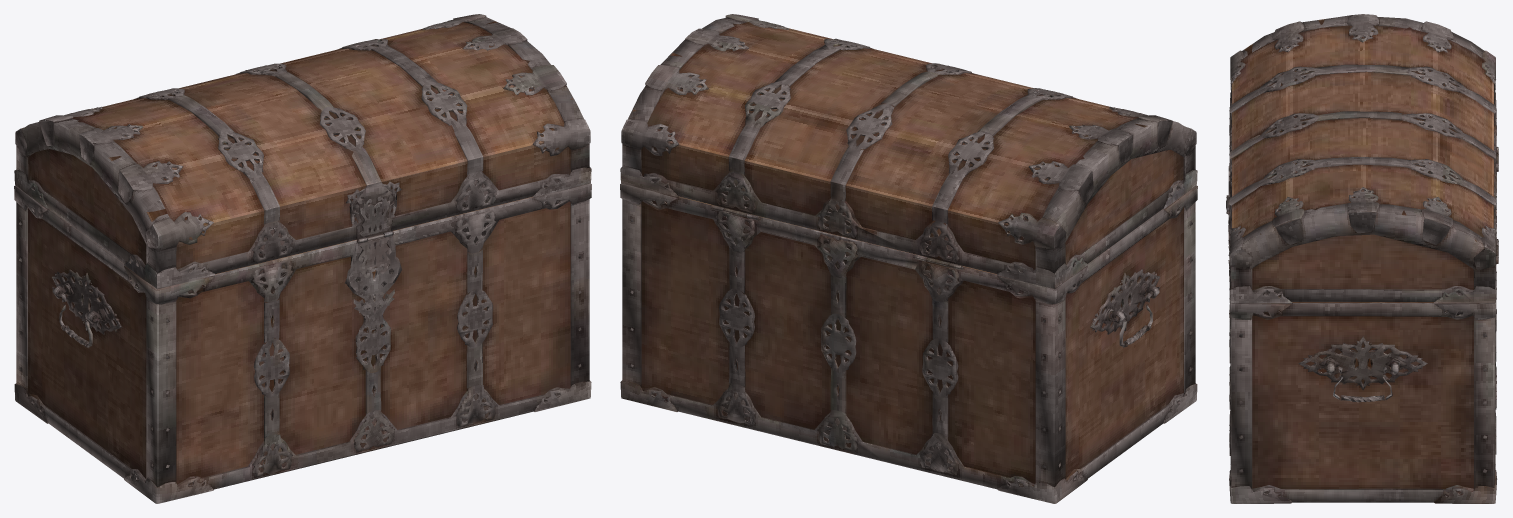
The model's file is grounded-chest-clear.glb.
The picture shows the model from 3 angles, left to right: view 1: azimuth 30°, elevation 25°; view 2: azimuth 150°, elevation 25°; view 3: azimuth 270°, elevation 25°; orthographic projection. The views are drawn at different scales.
Visible parts, largest first — view 1: grounded-chest-clear runtime mesh; view 2: grounded-chest-clear runtime mesh; view 3: grounded-chest-clear runtime mesh.
Part boxes in pixels (left/top/right/bottom): grounded-chest-clear runtime mesh: left=14, top=14, right=591, bottom=503; grounded-chest-clear runtime mesh: left=620, top=14, right=1197, bottom=503; grounded-chest-clear runtime mesh: left=1226, top=14, right=1498, bottom=503.
Size of the model in its own units: 1.1 by 0.709 by 0.5993.
Materials: 1 (1 with a texture image).
